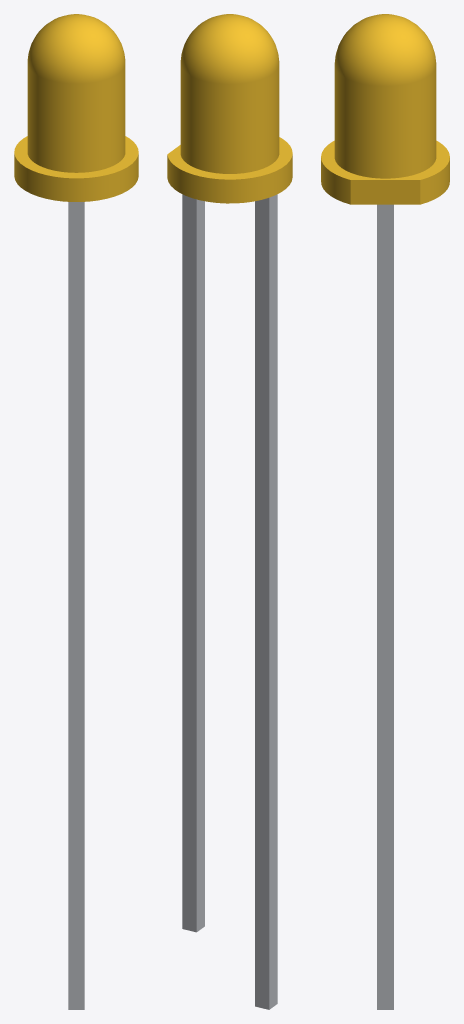
File: led-3mm-yellow.glb
The picture shows the model from 3 angles, left to right: view 1: azimuth 90°, elevation 25°; view 2: azimuth 150°, elevation 25°; view 3: azimuth 270°, elevation 25°; orthographic projection. The views are drawn at different scales.
Parts seen in each view (by area): view 1: body, lead-1; view 2: body, lead-1, lead-2; view 3: body, lead-2, lead-1.
Part boxes in pixels (x1,y1,x2,y2): body: (14, 14, 138, 201); lead-1: (68, 202, 84, 1009); body: (167, 14, 292, 203); lead-1: (255, 194, 277, 1009); lead-2: (182, 194, 204, 932); body: (321, 14, 449, 204); lead-2: (377, 204, 393, 984); lead-1: (377, 985, 393, 1009).
Size of the model in its own units: 0.00349 by 0.0327 by 0.0038.
